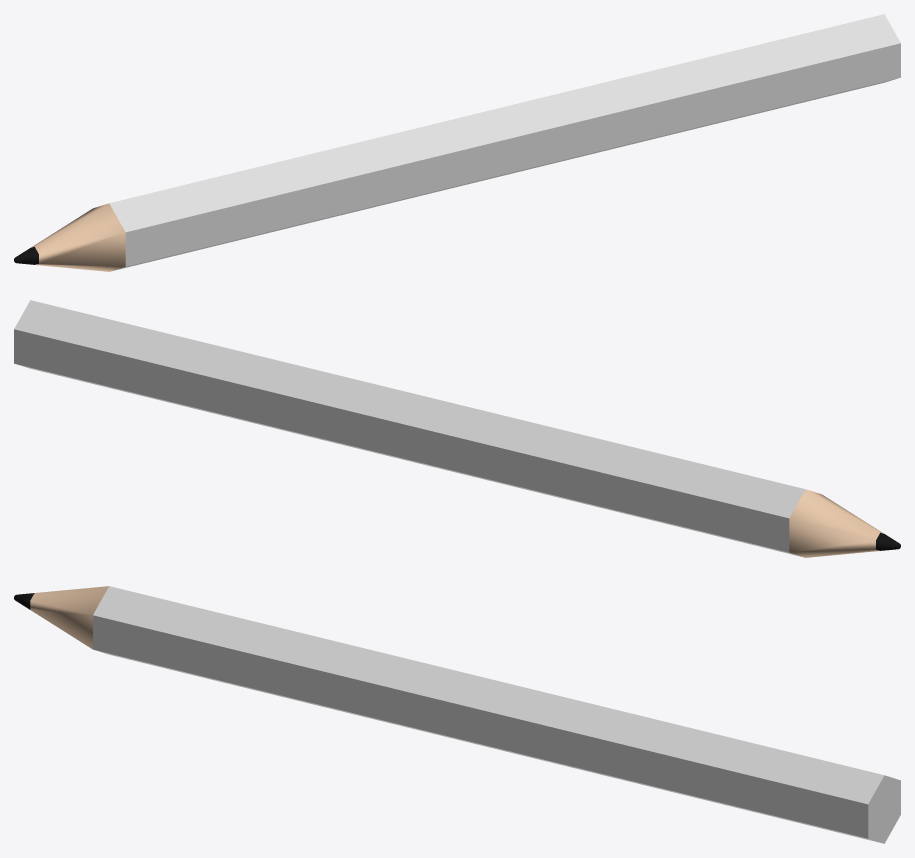
File: Pencil_halfs.fbx
3 views of the same model, one above another, from view 1: azimuth 30°, elevation 25°; view 2: azimuth 150°, elevation 25°; view 3: azimuth 330°, elevation 25° (orthographic).
Visible parts, largest first — view 1: Pencil_cut_piece02, Pencil_cut_piece01; view 2: Pencil_cut_piece02, Pencil_cut_piece01; view 3: Pencil_cut_piece02, Pencil_cut_piece01.
Boxes of the visible parts, bbox=[...] form: Pencil_cut_piece02: bbox=[449, 14, 900, 188]; Pencil_cut_piece01: bbox=[14, 120, 465, 271]; Pencil_cut_piece02: bbox=[14, 300, 465, 474]; Pencil_cut_piece01: bbox=[449, 406, 900, 557]; Pencil_cut_piece02: bbox=[433, 669, 900, 843]; Pencil_cut_piece01: bbox=[14, 586, 449, 737].
Bounding box in the file's own units: 1300 × 98 × 84.87.
